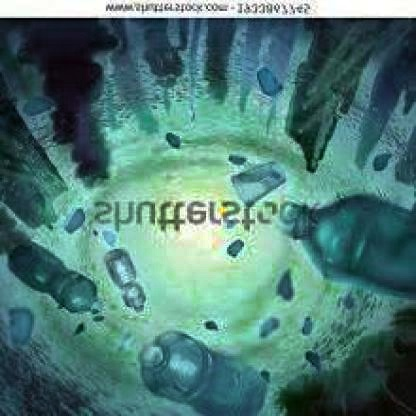pbottle: (283, 194, 416, 297), (123, 332, 278, 416), (8, 238, 104, 312), (98, 243, 155, 318), (231, 160, 287, 205)
